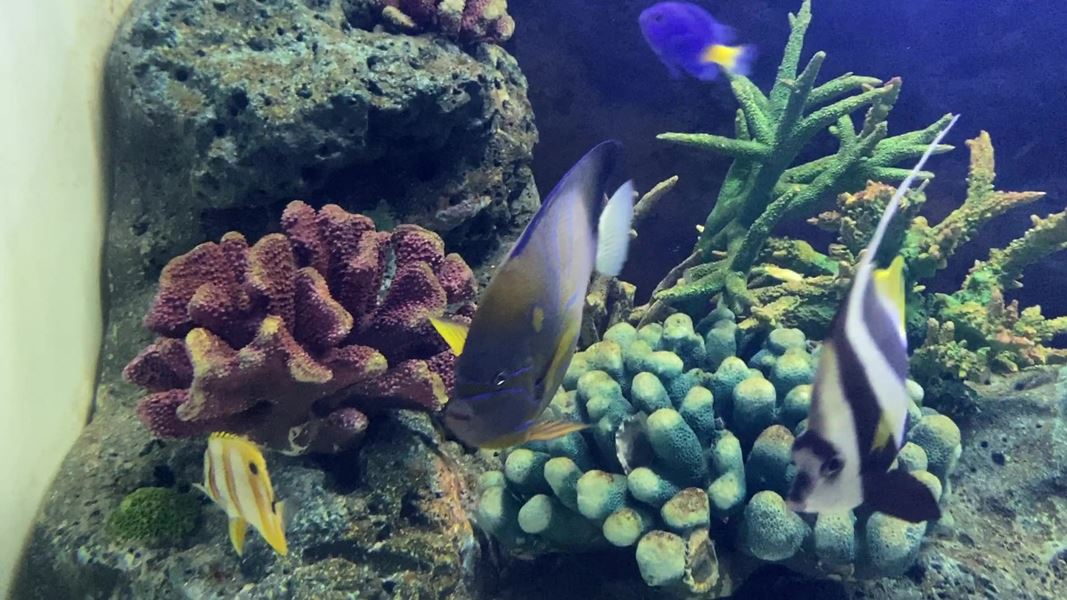Blue ring angelfish: (403, 134, 663, 446)
